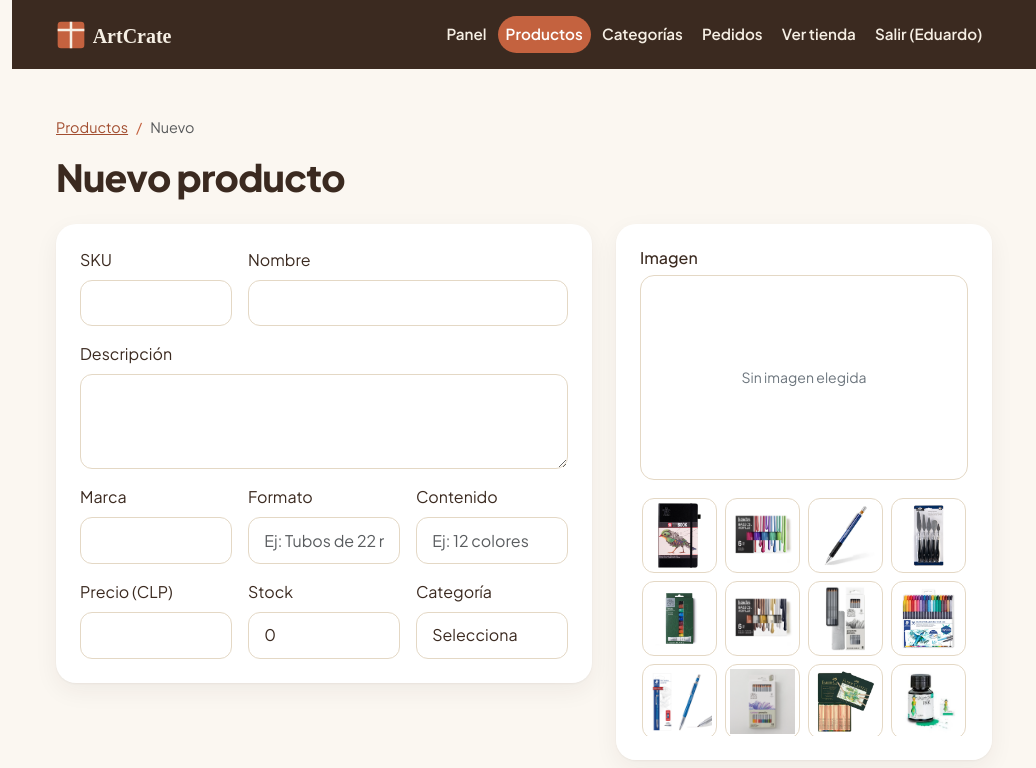
it: Formulario de producto › producto nuevo › rechaza un stock negativo
The image size is (1036, 768).
Replace the text in the number field labelled "Stock" with "-3" at {"x": 324, "y": 635}, box top-left (248, 612), bottom-right (400, 659)
(page scrolled)
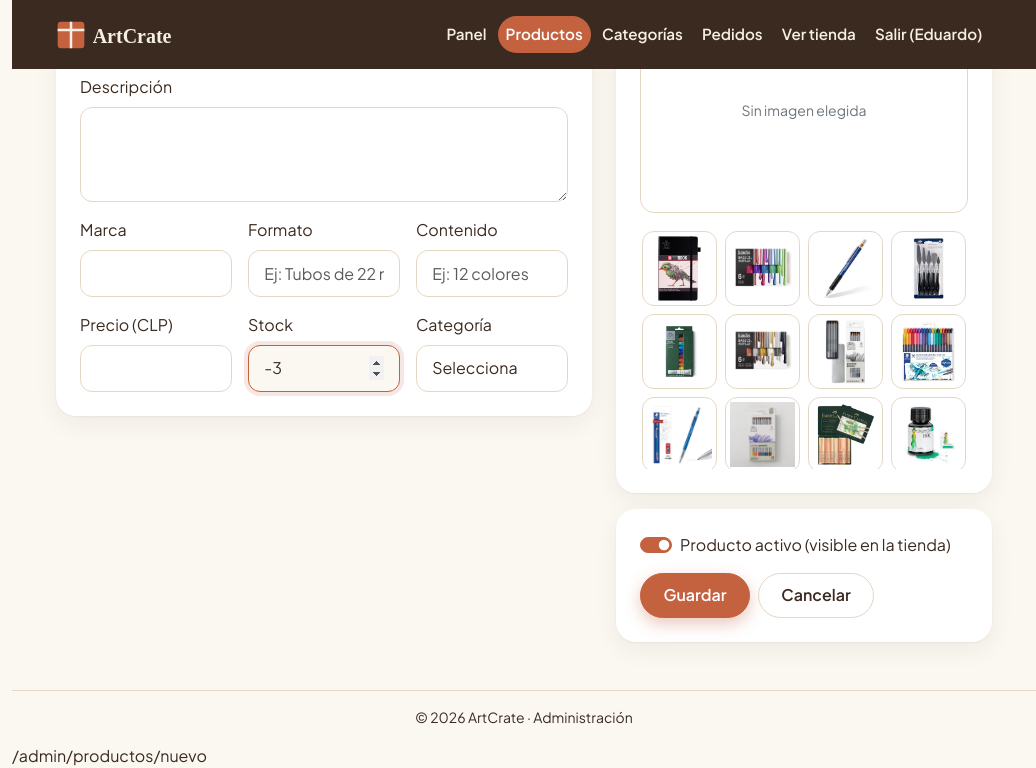
Click the button "Guardar" at {"x": 695, "y": 595}, box top-left (640, 573), bottom-right (750, 618)
(page scrolled)
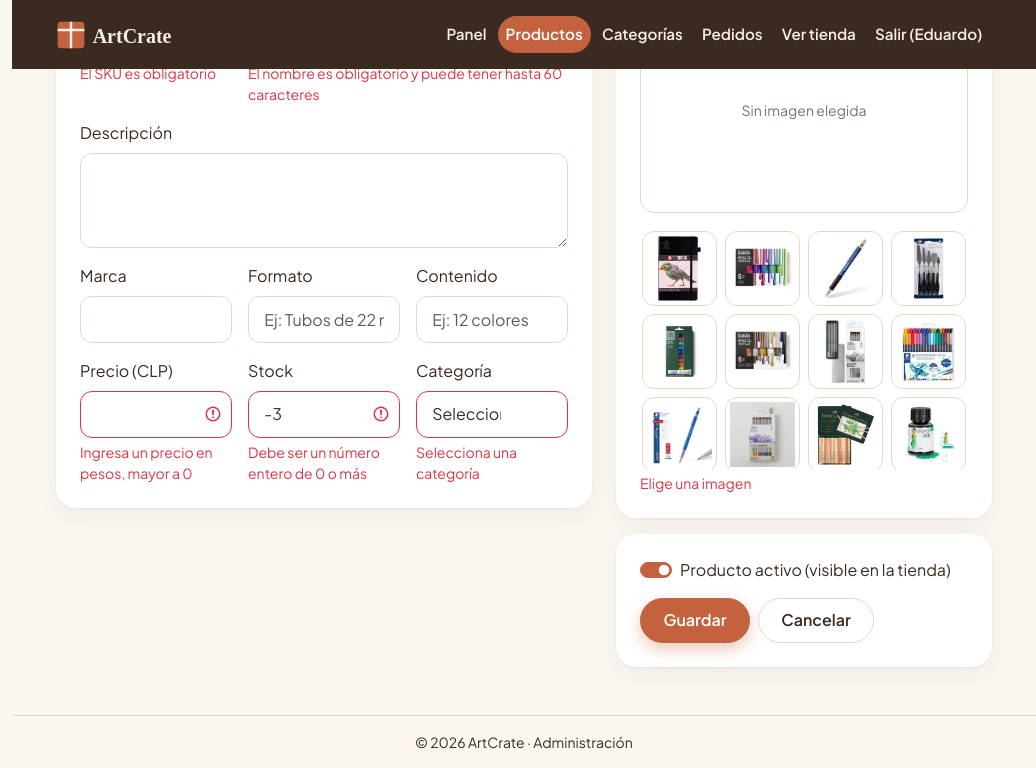
Result: the text "Debe ser un número entero de 0 o más" is shown at top-left (248, 442), bottom-right (400, 484)
